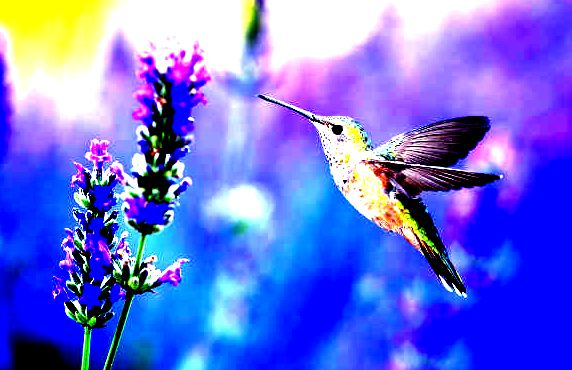Bird: (254, 91, 506, 300)
